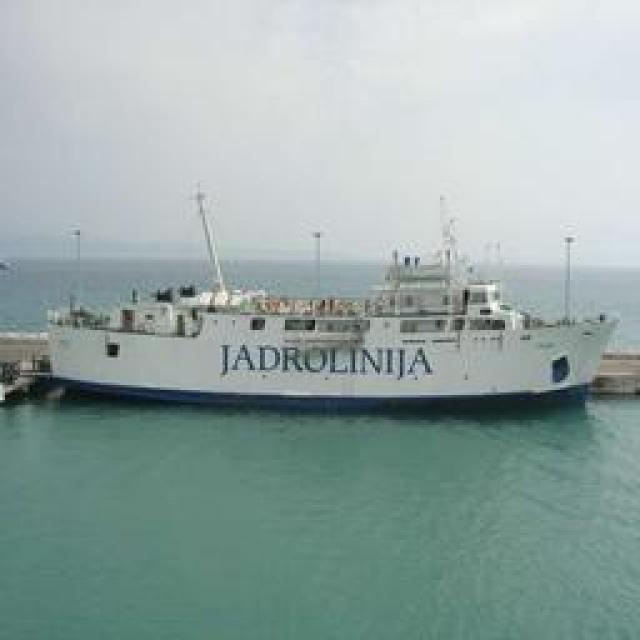CIV_Ship: (49, 195, 612, 415)
